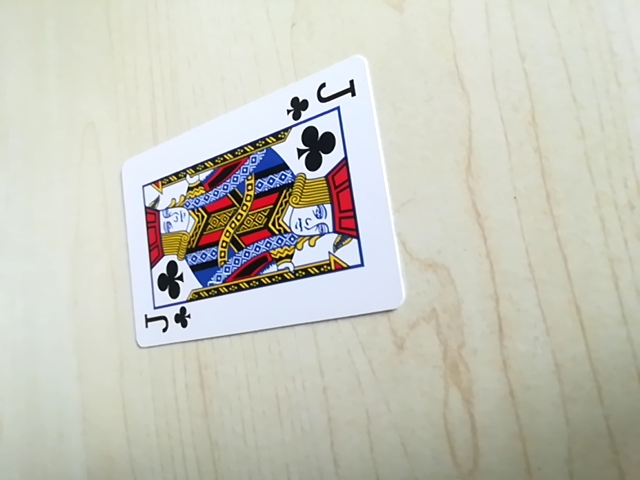mh j: (284, 74, 362, 121), (138, 298, 194, 343)
